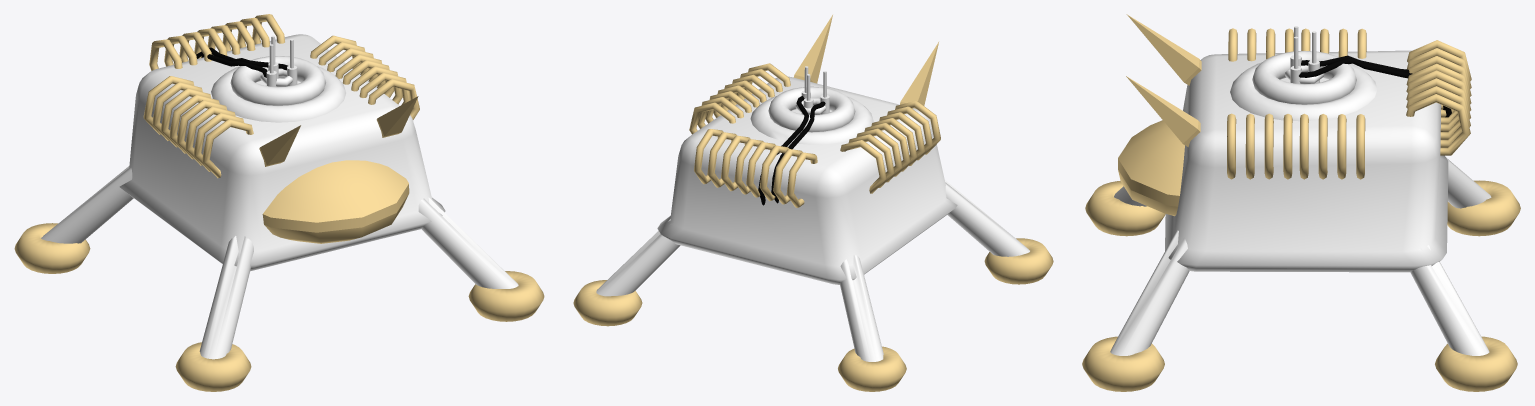
Rendered from BasicBot.FBX.
The picture shows the model from 3 angles, left to right: view 1: azimuth 30°, elevation 25°; view 2: azimuth 150°, elevation 25°; view 3: azimuth 270°, elevation 25°; orthographic projection. The views are drawn at different scales.
Parts seen in each view (by area): view 1: BasicBot; view 2: BasicBot; view 3: BasicBot.
Boxes of the visible parts, x1,y1,x2,y2 form: BasicBot: [14, 14, 544, 391]; BasicBot: [573, 15, 1053, 391]; BasicBot: [1082, 14, 1520, 391].
Size of the model in its own units: 68.07 by 66.14 by 44.58.
